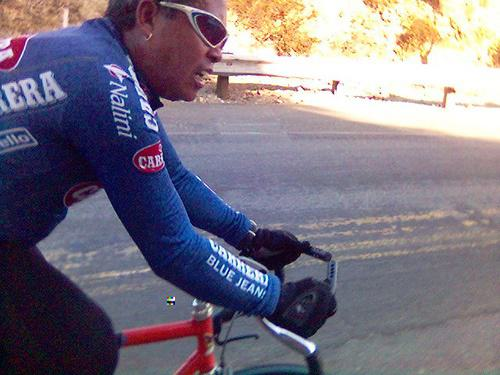car: (1, 227, 341, 375)
person: (1, 3, 341, 375)
